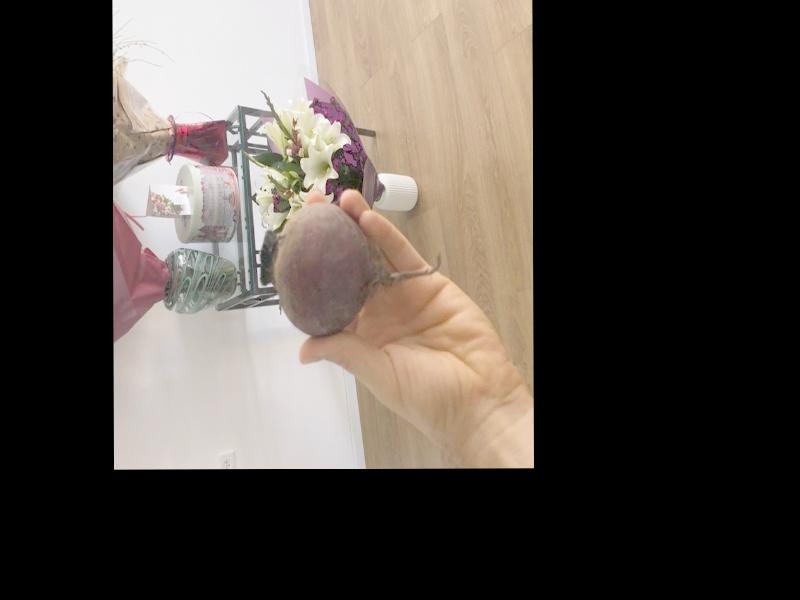Beet: (259, 201, 440, 336)
